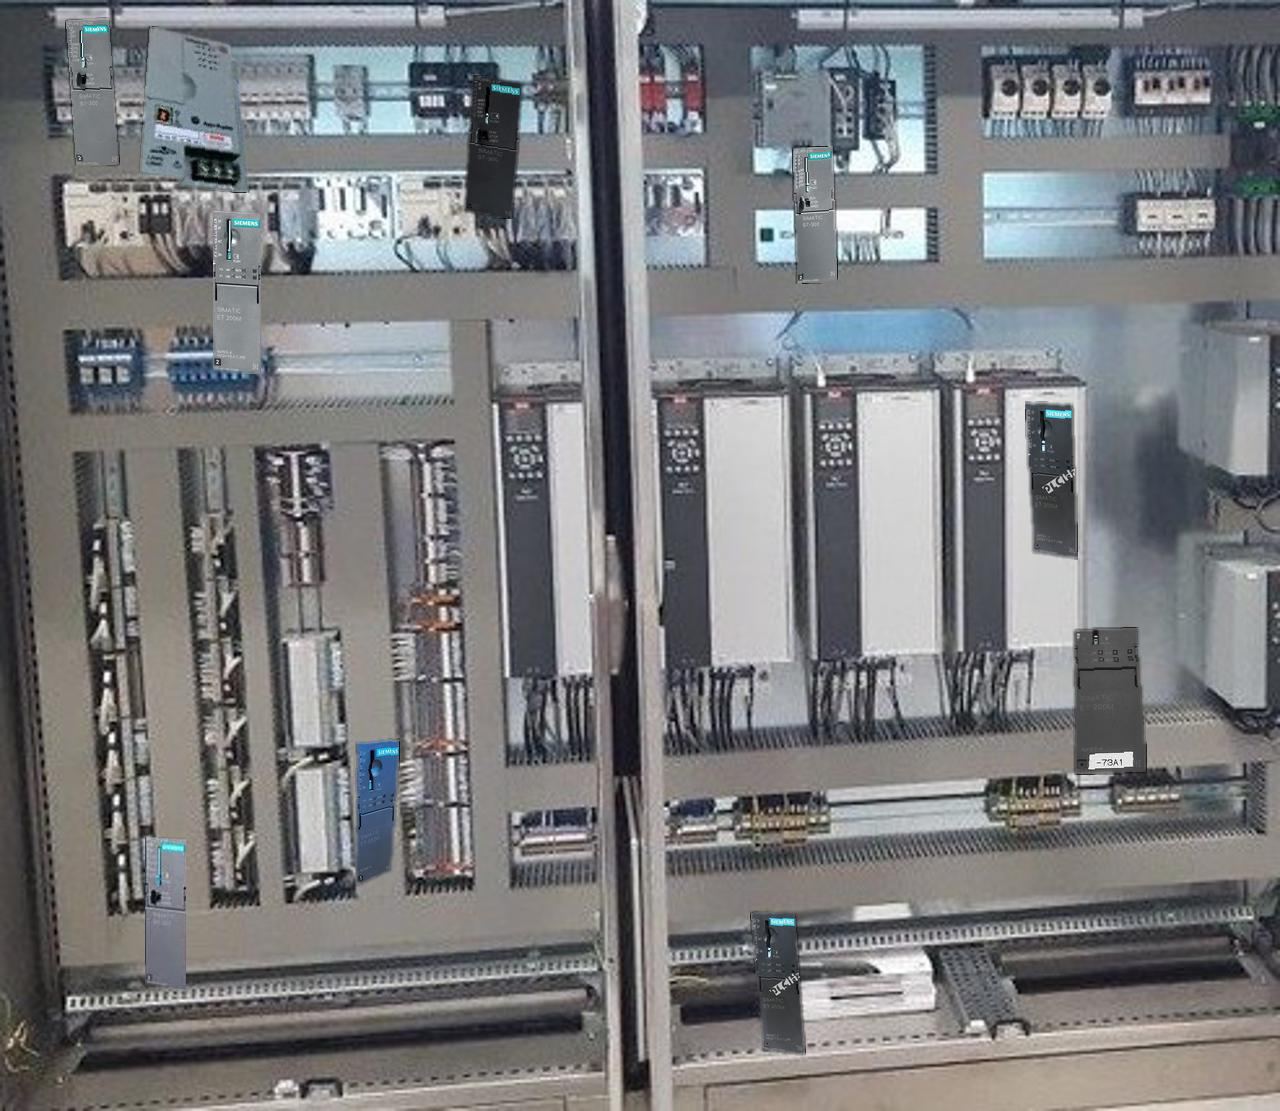AllenBradley: (140, 26, 248, 192)
Siemens: (464, 75, 522, 218), (66, 18, 118, 164), (145, 837, 185, 988), (793, 146, 836, 283)
